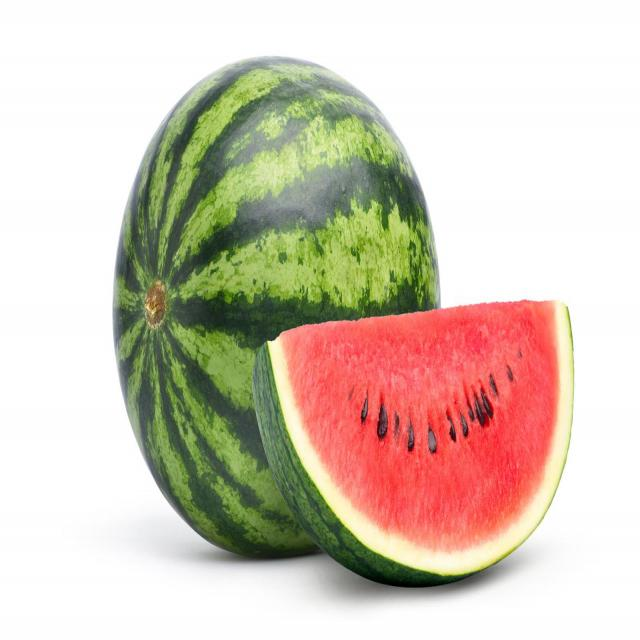watermelon: (104, 41, 446, 562), (249, 297, 575, 585)
